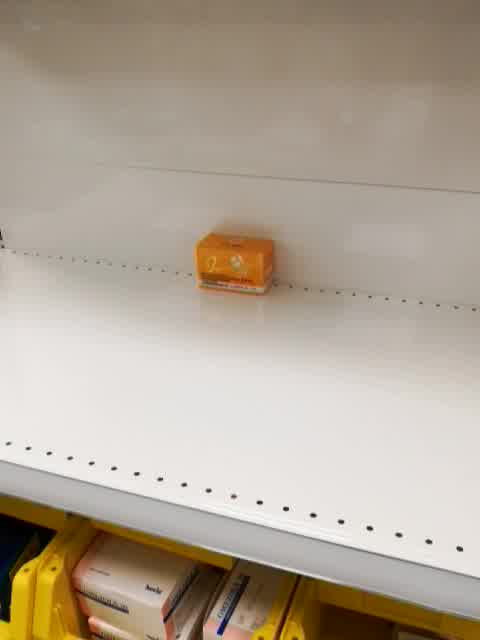jasminetea: (195, 231, 276, 297)
